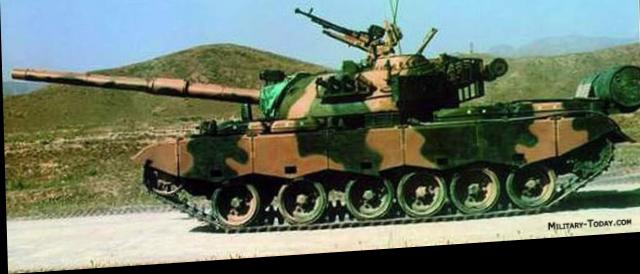tank: (133, 43, 638, 235)
